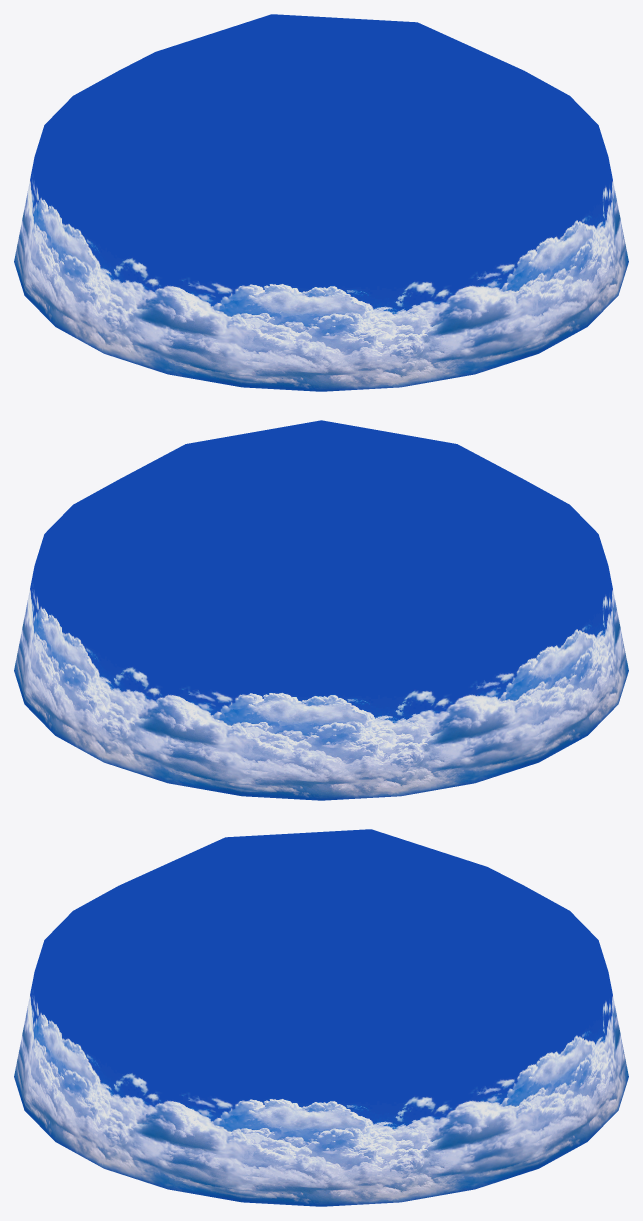
File: Chunk5.obj
3 renders of one model, top to bottom at view 1: azimuth 30°, elevation 25°; view 2: azimuth 150°, elevation 25°; view 3: azimuth 270°, elevation 25°, orthographic.
Bounding box in the file's own units: 100000 × 36392 × 100000.
35 materials, 35 textured.
